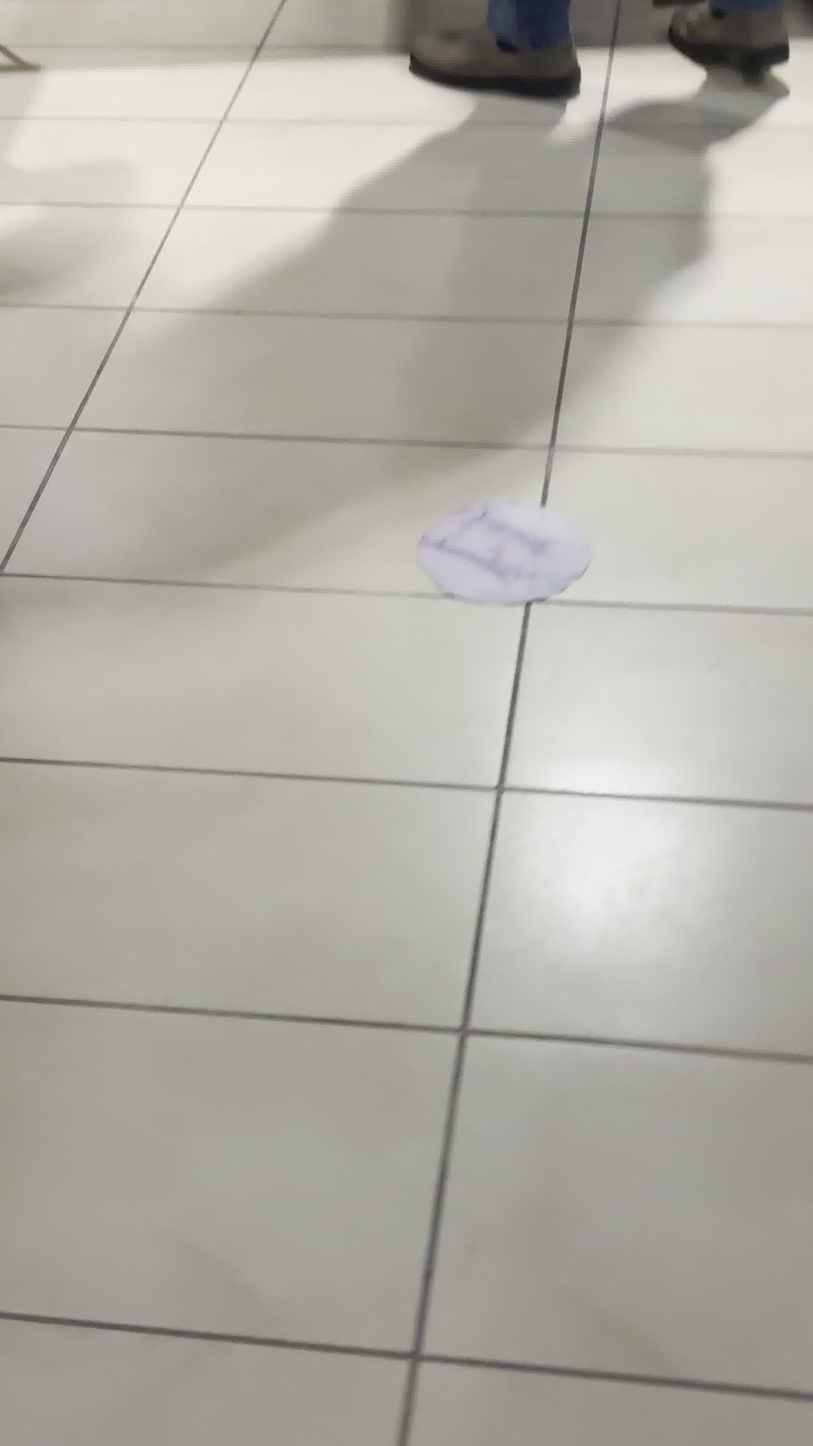Target: (416, 503, 588, 605)
